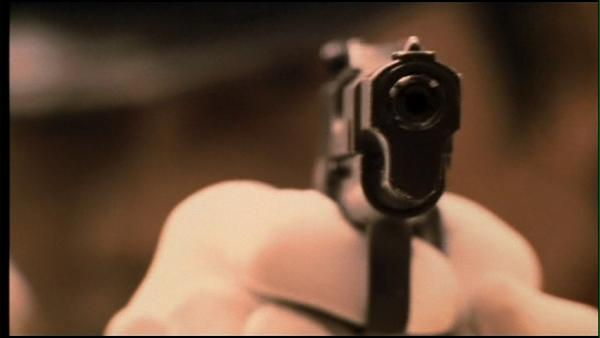Gun: (322, 38, 468, 250)
